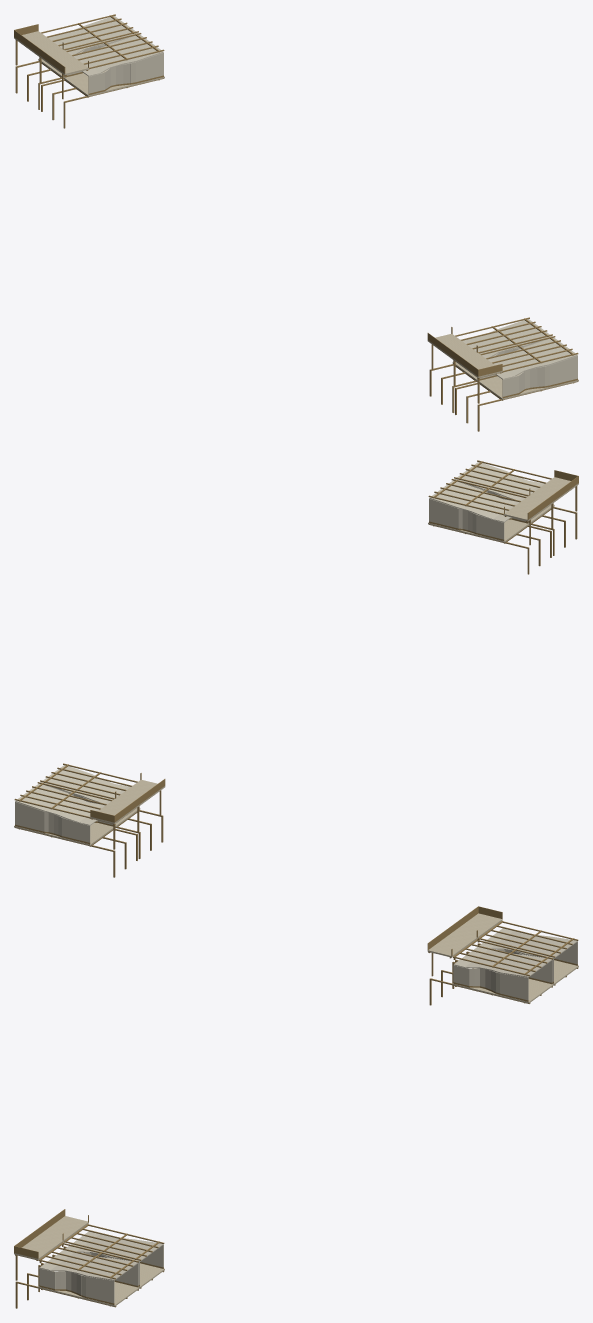
Rendered from StarAtlasSpecialtySecondReceiving.glb.
The picture shows the model from 3 angles, top to bottom: view 1: azimuth 30°, elevation 25°; view 2: azimuth 150°, elevation 25°; view 3: azimuth 330°, elevation 25°; orthographic projection.
Parts seen in each view (by area): view 1: SA_D15_North_SecondStreetFloor, SA_D15_South_SecondStreetFloor, Persistent_461_SUI_Wall_R7, Persistent_491_SUI_Wall_R7, Persistent_461_SUI_Floor, Persistent_491_SUI_Floor; view 2: SA_D15_South_SecondStreetFloor, SA_D15_North_SecondStreetFloor, Persistent_467_SUI_Wall_L6, Persistent_485_SUI_Wall_L6; view 3: SA_D15_North_SecondStreetFloor, SA_D15_South_SecondStreetFloor, Persistent_491_SUI_Wall_R7, Persistent_461_SUI_Wall_R7, Persistent_461_SUI_Floor, Persistent_491_SUI_Floor.
Part boxes in pixels (<box>): SA_D15_North_SecondStreetFloor: <box>14,31,88,75</box>; SA_D15_South_SecondStreetFloor: <box>427,333,502,377</box>; Persistent_461_SUI_Wall_R7: <box>135,52,163,81</box>; Persistent_491_SUI_Wall_R7: <box>549,355,577,385</box>; Persistent_461_SUI_Floor: <box>63,70,164,96</box>; Persistent_491_SUI_Floor: <box>479,373,578,399</box>; SA_D15_South_SecondStreetFloor: <box>504,477,578,521</box>; SA_D15_North_SecondStreetFloor: <box>90,779,165,823</box>; Persistent_467_SUI_Wall_L6: <box>429,498,458,528</box>; Persistent_485_SUI_Wall_L6: <box>15,801,44,831</box>; SA_D15_North_SecondStreetFloor: <box>427,913,502,957</box>; SA_D15_South_SecondStreetFloor: <box>14,1216,88,1260</box>; Persistent_491_SUI_Wall_R7: <box>86,1276,114,1303</box>; Persistent_461_SUI_Wall_R7: <box>500,973,528,1000</box>; Persistent_461_SUI_Floor: <box>452,968,553,1003</box>; Persistent_491_SUI_Floor: <box>38,1282,139,1306</box>.
Bounding box in the file's own units: 17 × 10.1 × 136.
10 materials, 10 textured.
